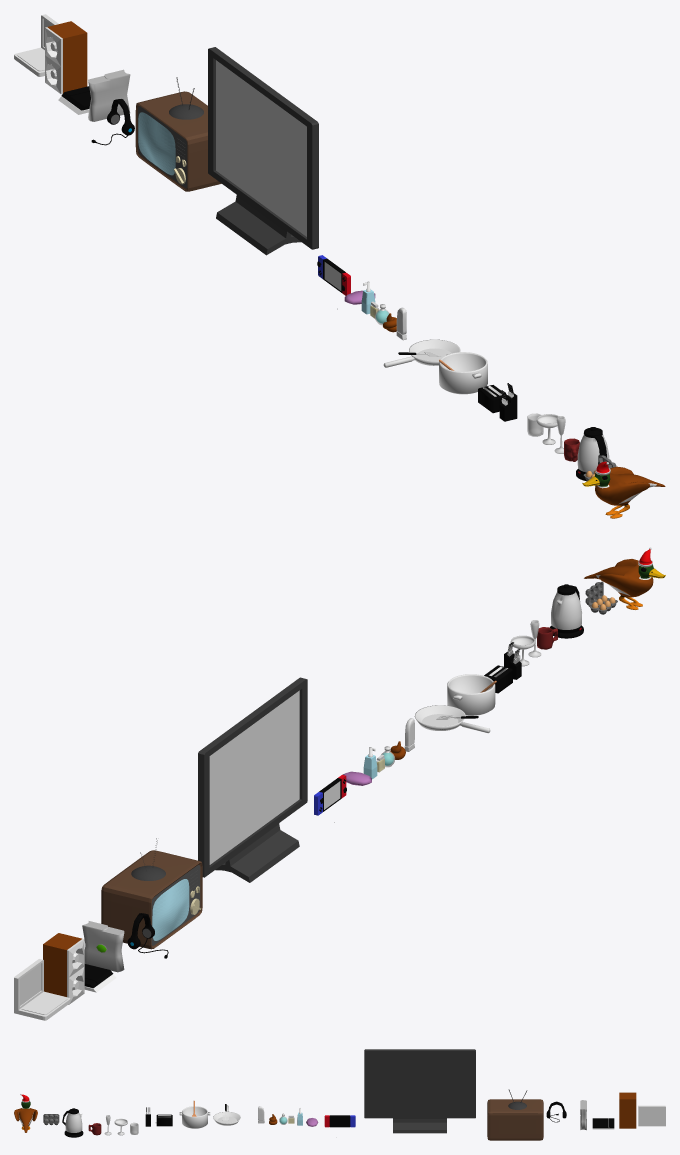
The picture shows the model from 3 angles, top to bottom: view 1: azimuth 30°, elevation 25°; view 2: azimuth 150°, elevation 25°; view 3: azimuth 270°, elevation 25°; orthographic projection. The views are drawn at different scales.
Visible parts, largest first — view 1: Cube.037, Plane.007, Cube.034, Cube.048, Cylinder.009, Cube.035, Circle.002, Circle.006, Cube.033, Cube.039; view 2: Cube.037, Plane.007, Cube.034, Cube.033, Cube.048, Cube.035, Cylinder.009, Circle.006, Circle.002, Cube.039; view 3: Cube.037, Plane.007, Cube.034, Cube.033, Cylinder.009, Circle.006, Cube.048, Cube.039, Circle.002, Cube.036, Cube.020, Cube.035 (+2 smaller).
Part boxes in pixels (x1=…): Cube.037: x1=208, y1=47, x2=318, y2=255; Plane.007: x1=135, y1=77, x2=221, y2=191; Cube.034: x1=45, y1=21, x2=87, y2=94; Cube.048: x1=582, y1=461, x2=665, y2=518; Cylinder.009: x1=439, y1=352, x2=487, y2=394; Cube.035: x1=88, y1=69, x2=130, y2=121; Circle.002: x1=383, y1=339, x2=460, y2=367; Circle.006: x1=576, y1=427, x2=609, y2=481; Cube.033: x1=14, y1=14, x2=58, y2=76; Cube.039: x1=317, y1=255, x2=350, y2=295; Cube.037: x1=198, y1=677, x2=307, y2=882; Plane.007: x1=101, y1=838, x2=202, y2=949; Cube.034: x1=43, y1=933, x2=84, y2=1004; Cube.033: x1=14, y1=959, x2=70, y2=1020; Cube.048: x1=584, y1=547, x2=665, y2=609; Cube.035: x1=82, y1=921, x2=124, y2=972; Cylinder.009: x1=447, y1=674, x2=495, y2=715; Circle.006: x1=549, y1=584, x2=583, y2=638; Circle.002: x1=414, y1=705, x2=490, y2=733; Cube.039: x1=314, y1=774, x2=346, y2=815; Cube.037: x1=364, y1=1049, x2=475, y2=1133; Plane.007: x1=487, y1=1089, x2=543, y2=1140; Cube.034: x1=619, y1=1092, x2=636, y2=1128; Cube.033: x1=638, y1=1105, x2=665, y2=1126; Cylinder.009: x1=179, y1=1106, x2=210, y2=1128; Circle.006: x1=62, y1=1108, x2=83, y2=1137; Cube.048: x1=14, y1=1094, x2=37, y2=1132; Cube.039: x1=324, y1=1115, x2=355, y2=1127; Circle.002: x1=213, y1=1104, x2=240, y2=1125; Cube.036: x1=592, y1=1118, x2=614, y2=1129; Cube.020: x1=155, y1=1114, x2=172, y2=1126; Cube.035: x1=580, y1=1100, x2=586, y2=1130.
Bounding box in the file's own units: 1283 × 2048 × 13673.
